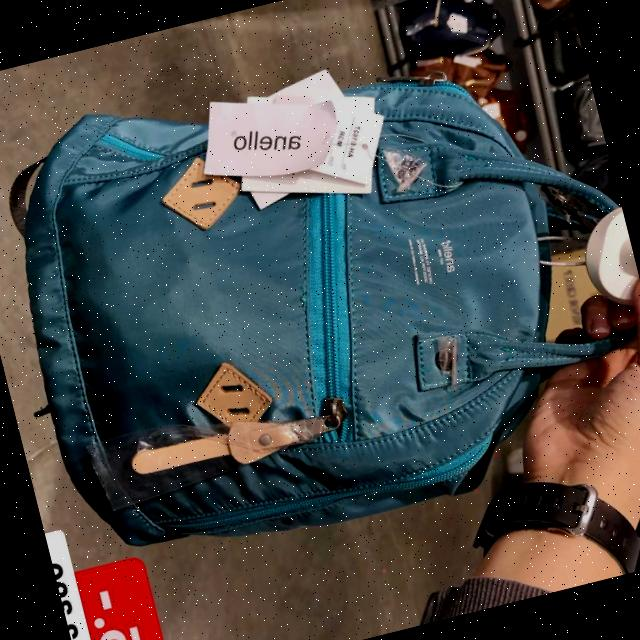Handbag: (0, 3, 595, 592)
